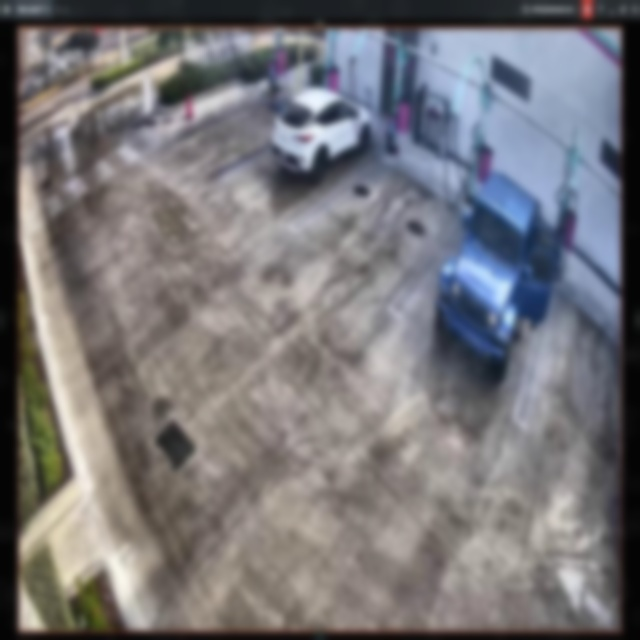Car: (429, 170, 555, 374), (268, 83, 372, 181)
